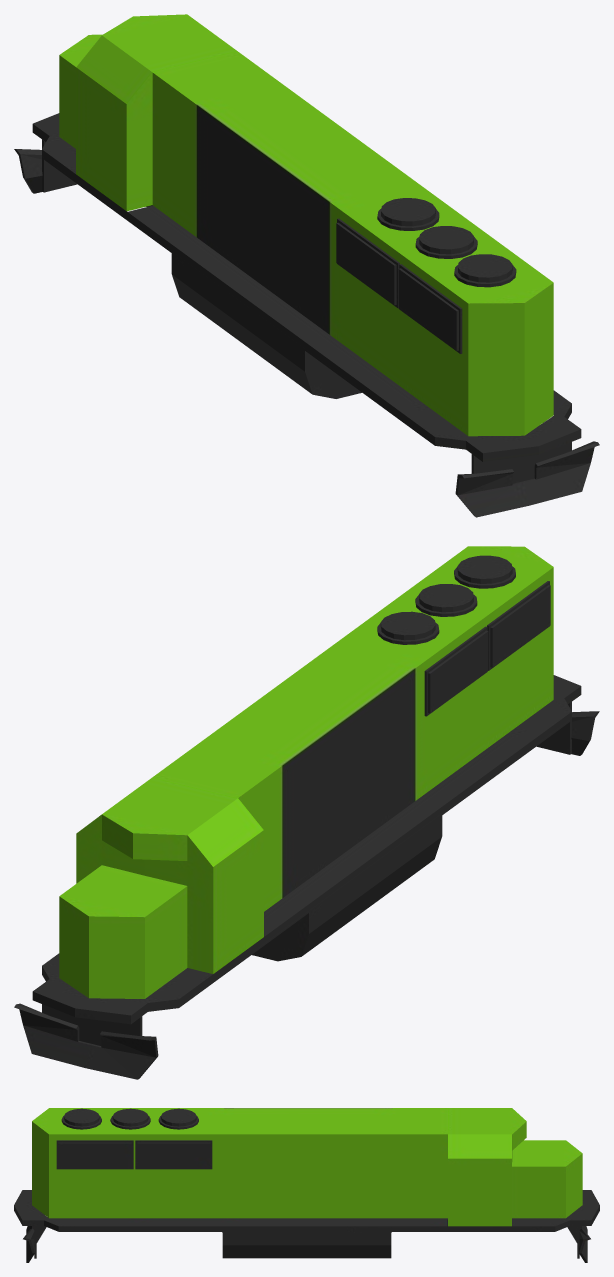
3 views of the same model, one above another, from view 1: azimuth 30°, elevation 25°; view 2: azimuth 150°, elevation 25°; view 3: azimuth 270°, elevation 25° (orthographic). The views are drawn at different scales.
Parts seen in each view (by area): view 1: Hull; view 2: Hull; view 3: Hull.
Part boxes in pixels (box(x1,y1,x2,y2)): Hull: box(14, 14, 599, 517); Hull: box(14, 546, 599, 1079); Hull: box(14, 1108, 599, 1262).
Size of the model in its own units: 0.2807 by 0.4063 by 1.64.
1 material, 1 textured.
